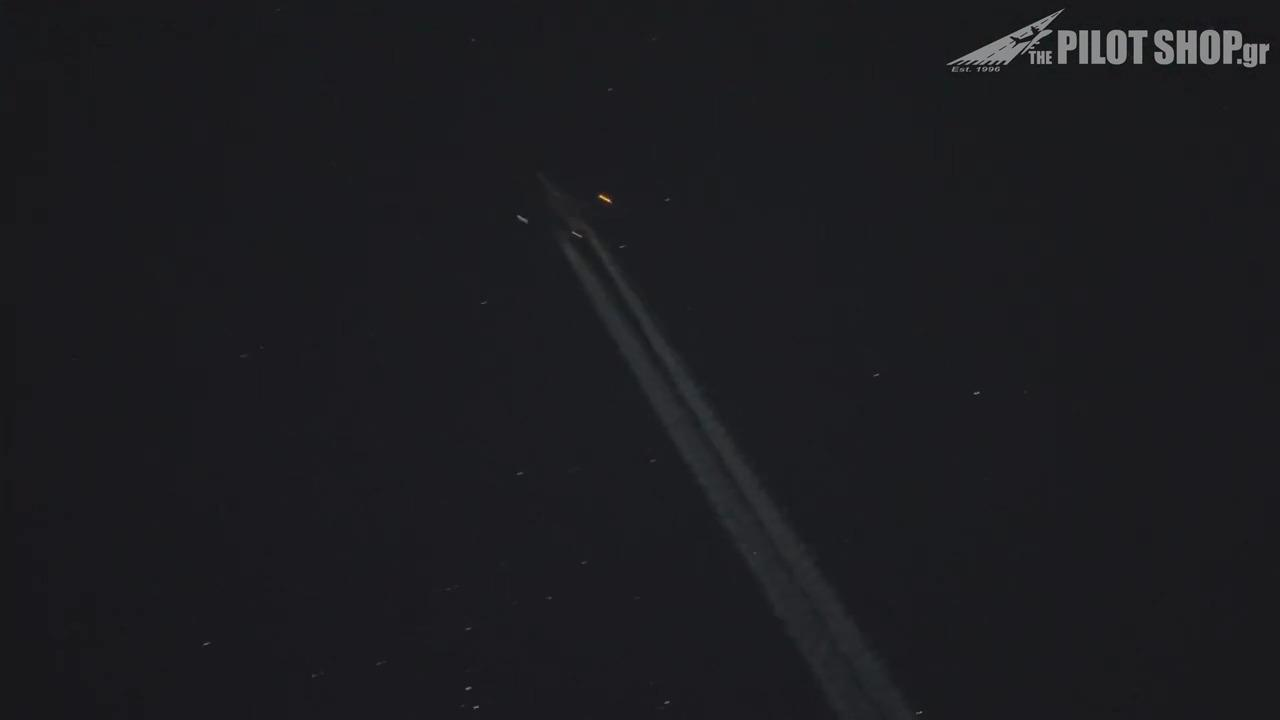Plane: (473, 142, 675, 284)
